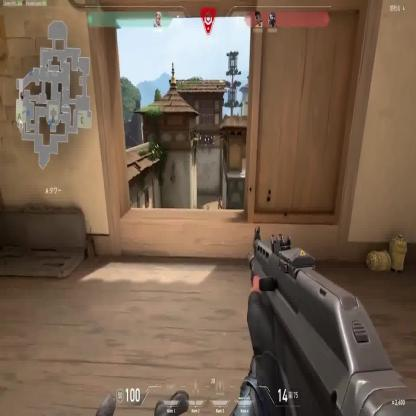enemy: (218, 194, 223, 210)
enemy_head: (219, 194, 221, 199)
